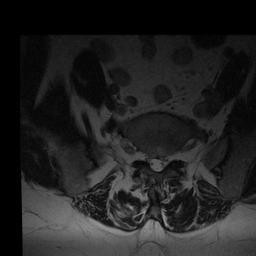CCS_stenosis: (153, 147, 161, 179)
LFS_normal: (168, 145, 176, 168)
LLS_normal: (160, 145, 168, 175)
RFS_normal: (139, 143, 146, 170)
RLS_normal: (146, 145, 154, 175)
